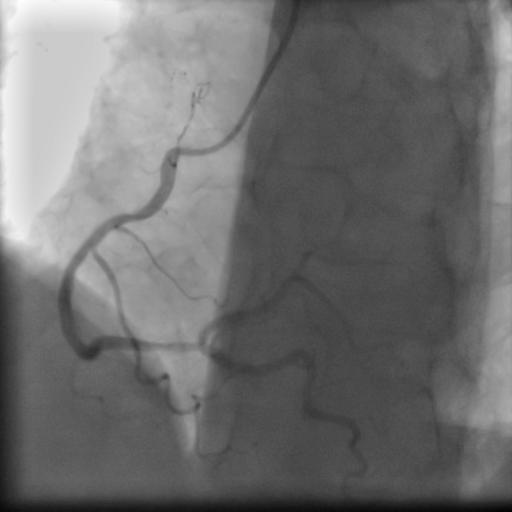Stenosis: (144, 331, 198, 354)
